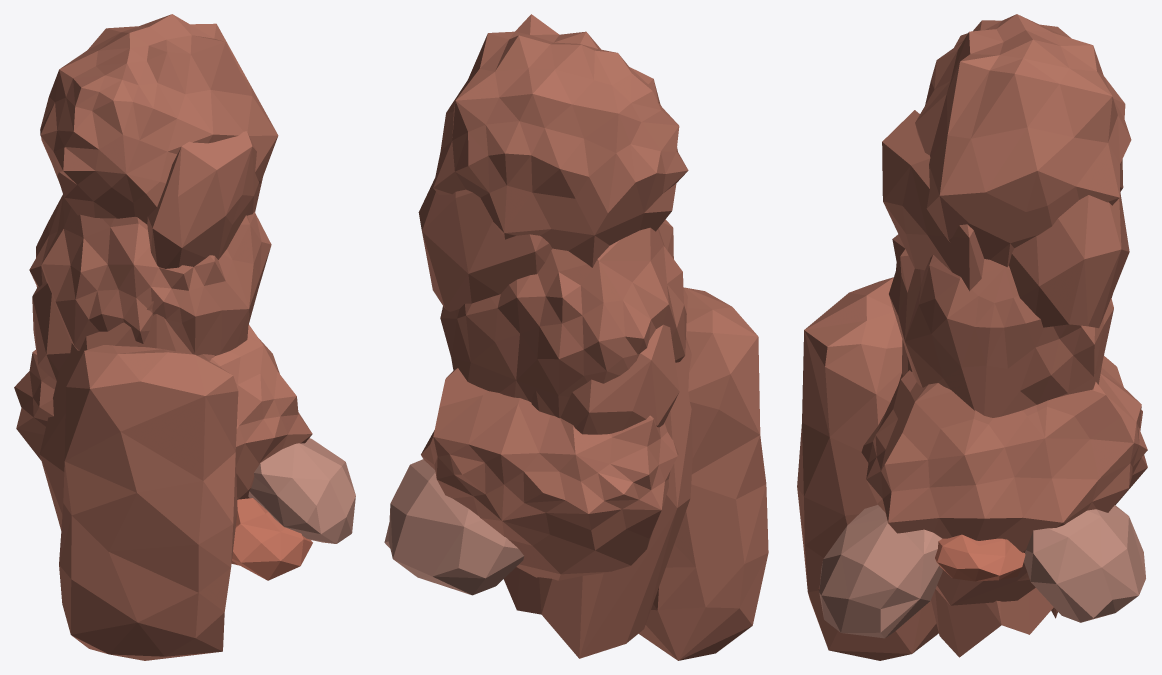
Rendered from rock_019.fbx.
3 renders of one model, left to right at view 1: azimuth 30°, elevation 25°; view 2: azimuth 150°, elevation 25°; view 3: azimuth 270°, elevation 25°, orthographic. The views are drawn at different scales.
Visible parts, largest first — view 1: rock_019; view 2: rock_019; view 3: rock_019.
Boxes of the visible parts, x1,y1,x2,y2 form: rock_019: [14, 14, 355, 660]; rock_019: [384, 14, 768, 660]; rock_019: [797, 14, 1147, 660].
Bounding box in the file's own units: 1553 × 1502 × 3058.
